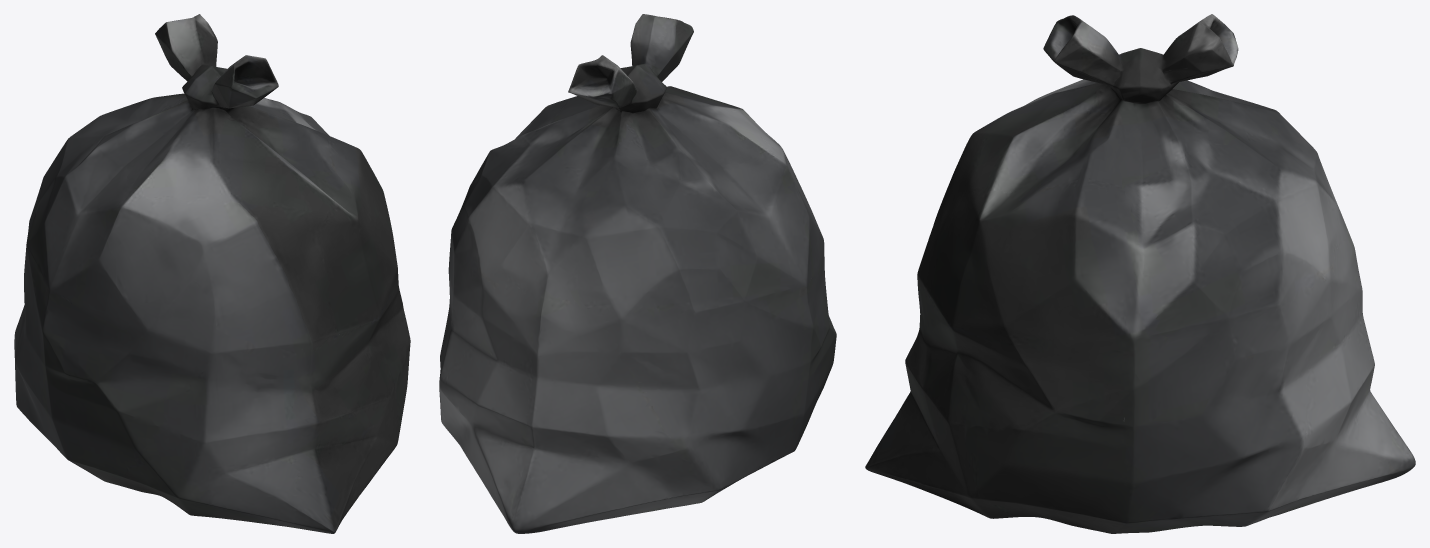
Rendered from sacola_lixo.glb.
The picture shows the model from 3 angles, left to right: view 1: azimuth 30°, elevation 25°; view 2: azimuth 150°, elevation 25°; view 3: azimuth 270°, elevation 25°; orthographic projection. The views are drawn at different scales.
Parts seen in each view (by area): view 1: tripo_node_c0ba29b8-f204-436a-88c9-ca0520b2a23c; view 2: tripo_node_c0ba29b8-f204-436a-88c9-ca0520b2a23c; view 3: tripo_node_c0ba29b8-f204-436a-88c9-ca0520b2a23c.
Boxes of the visible parts, box(x1,y1,x2,y2) form: tripo_node_c0ba29b8-f204-436a-88c9-ca0520b2a23c: box(14, 14, 410, 533); tripo_node_c0ba29b8-f204-436a-88c9-ca0520b2a23c: box(439, 14, 836, 533); tripo_node_c0ba29b8-f204-436a-88c9-ca0520b2a23c: box(865, 14, 1415, 533).
Size of the model in its own units: 0.8004 by 0.9066 by 0.9931.
Materials: 1 (1 with a texture image).
